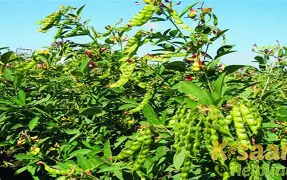crops: (0, 1, 283, 180)
